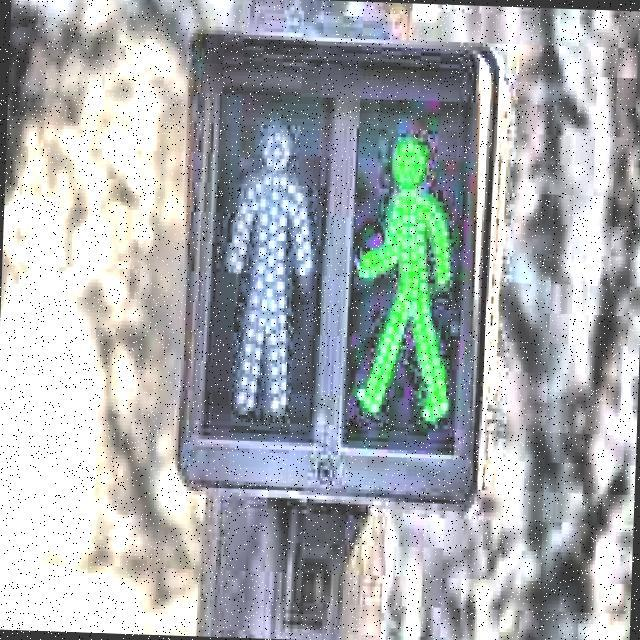green_light: (343, 124, 460, 425)
